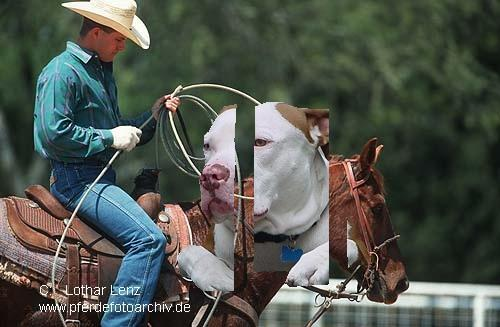tampered: (178, 103, 372, 291)
